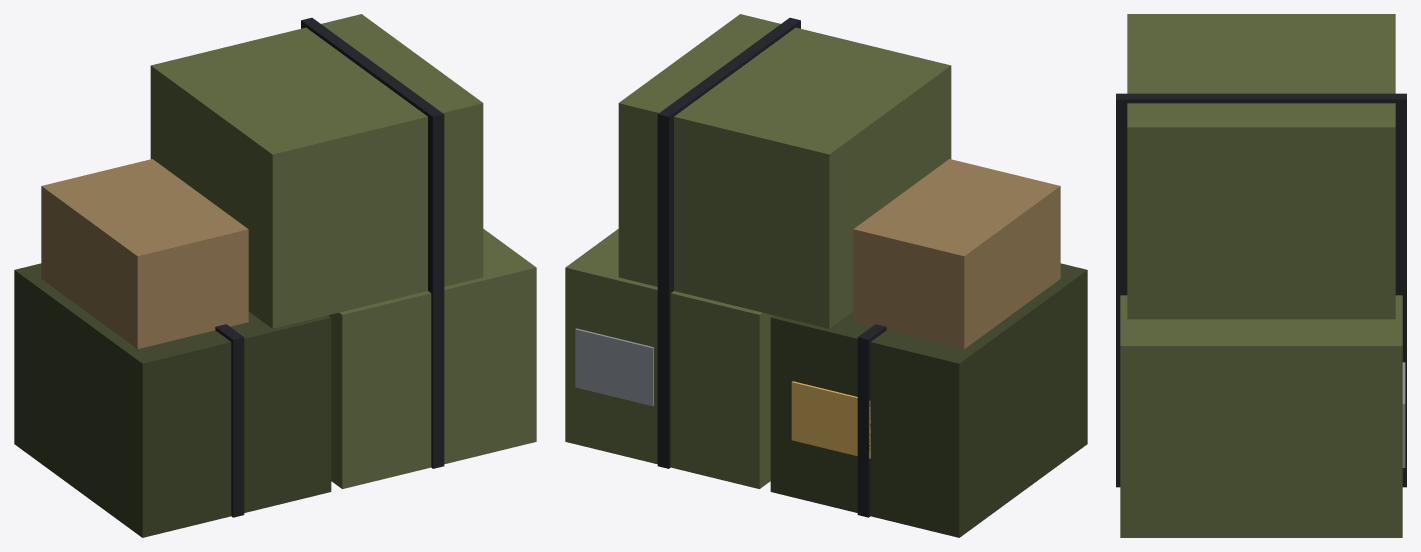
File: prop_carrier_crates.fbx
3 views of the same model, side by side, from view 1: azimuth 30°, elevation 25°; view 2: azimuth 150°, elevation 25°; view 3: azimuth 270°, elevation 25° (orthographic). The views are drawn at different scales.
Visible parts, largest first — view 1: prop_carrier_crates; view 2: prop_carrier_crates; view 3: prop_carrier_crates.
Boxes of the visible parts, left/top/right/bottom form: prop_carrier_crates: left=14, top=14, right=536, bottom=537; prop_carrier_crates: left=565, top=14, right=1087, bottom=537; prop_carrier_crates: left=1116, top=14, right=1406, bottom=537.
Size of the model in its own units: 710 by 606 by 412.
